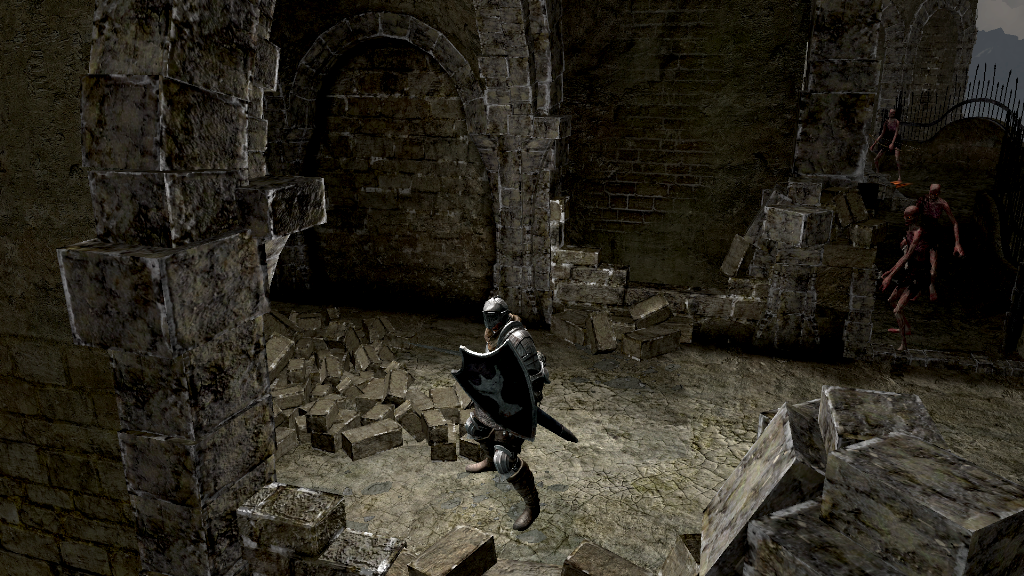hollow: (885, 204, 925, 352), (917, 182, 964, 304), (869, 108, 905, 180)
player: (449, 294, 551, 531)
